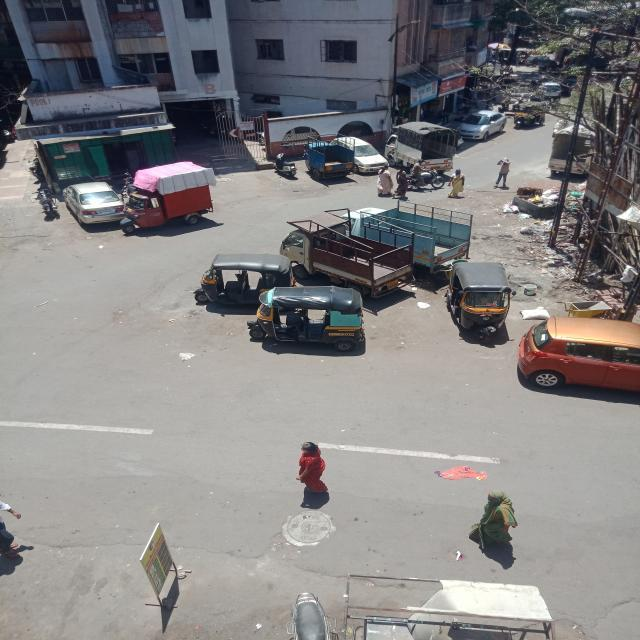auto_front: (444, 254, 514, 348), (509, 96, 546, 132)
car_back: (60, 174, 130, 230), (296, 129, 361, 185)
car_front: (458, 103, 509, 147)
